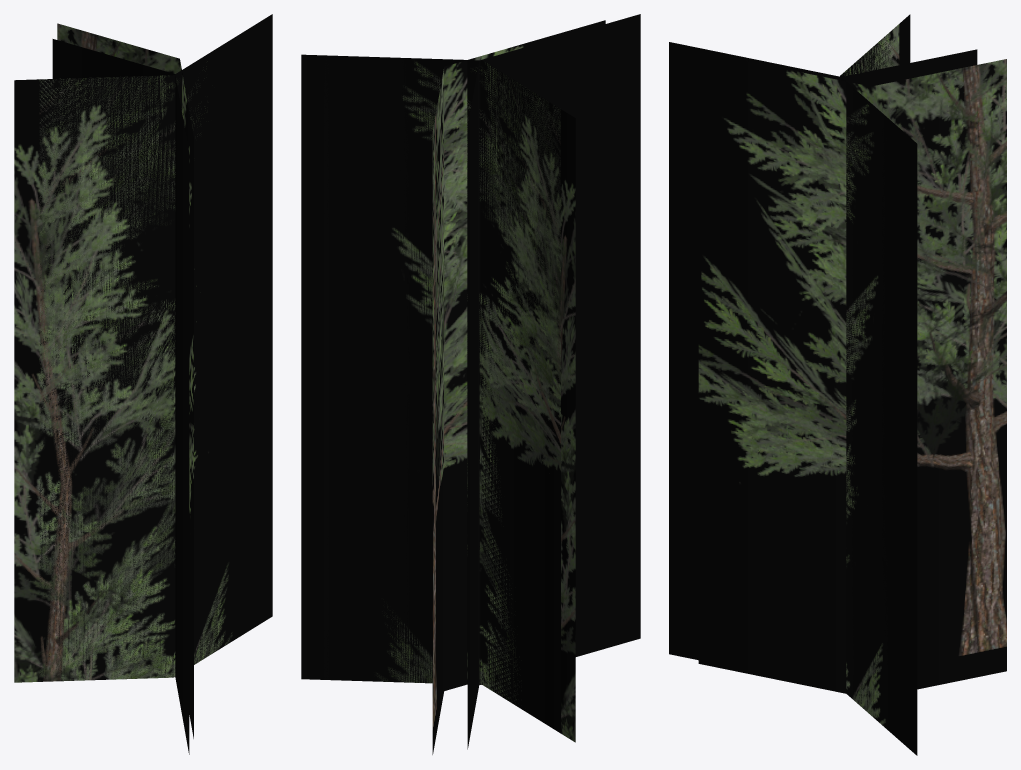
Rendered from NewFakeTrees01.FBX.
3 renders of one model, left to right at view 1: azimuth 30°, elevation 25°; view 2: azimuth 150°, elevation 25°; view 3: azimuth 270°, elevation 25°, orthographic. The views are drawn at different scales.
Parts seen in each view (by area): view 1: fake_tree001, fake_tree003, fake_tree002; view 2: fake_tree001, fake_tree003, fake_tree002; view 3: fake_tree002, fake_tree001, fake_tree003.
Part boxes in pixels (x1,y1,x2,y2): fake_tree001: (14, 14, 272, 754); fake_tree003: (39, 60, 260, 680); fake_tree002: (57, 23, 193, 738); fake_tree001: (301, 14, 640, 749); fake_tree003: (323, 35, 569, 733); fake_tree002: (432, 20, 605, 754); fake_tree002: (698, 51, 1006, 693); fake_tree001: (669, 14, 977, 755); fake_tree003: (715, 24, 907, 715).
Size of the model in its own units: 1135 by 2500 by 1250.
